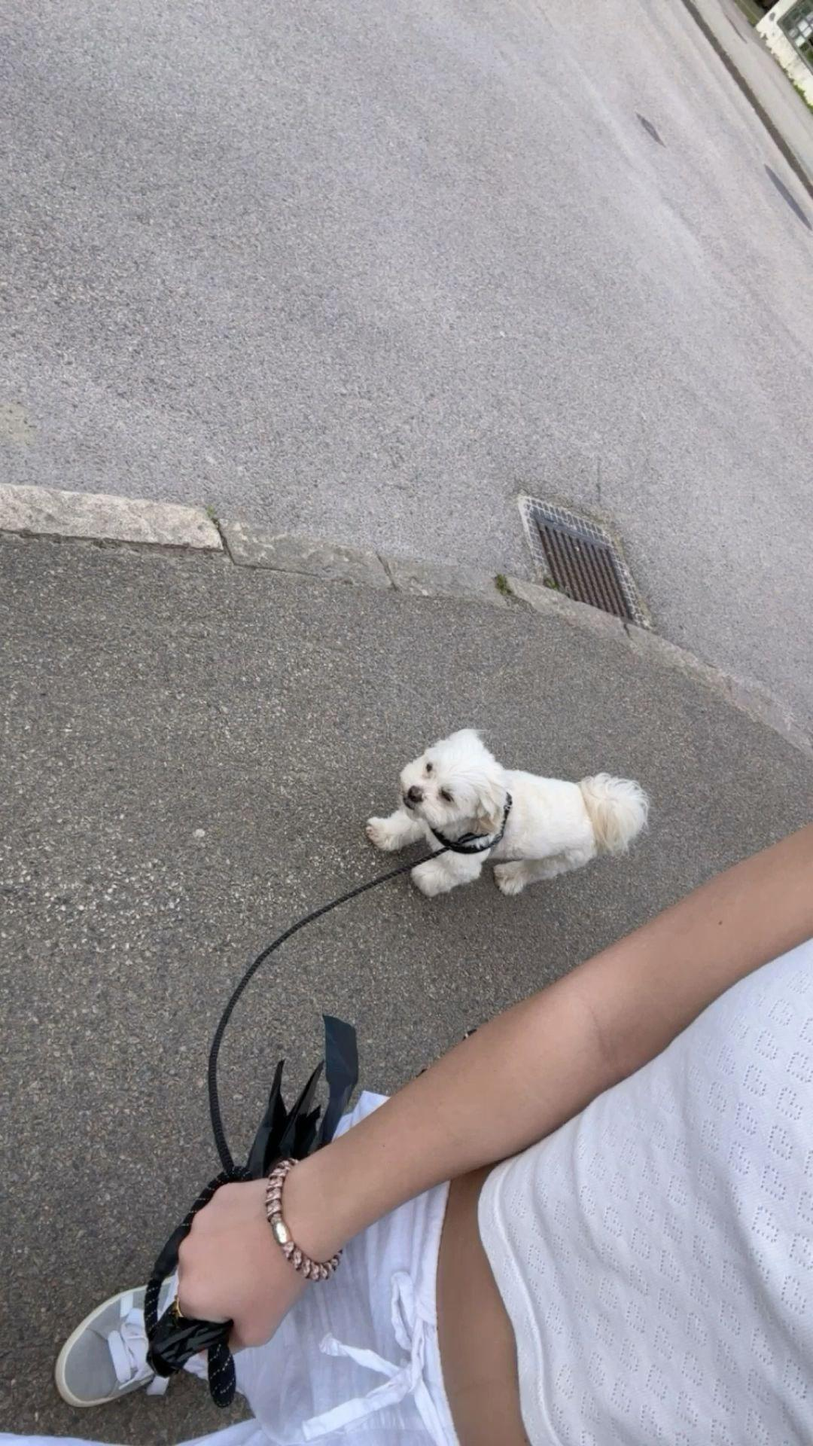adult_dog: (362, 729, 651, 900)
